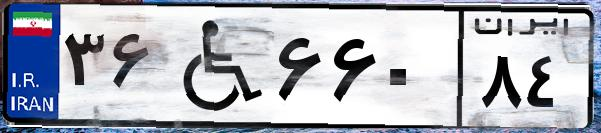0: (385, 28, 445, 110)
3: (57, 26, 110, 100)
4: (525, 38, 570, 115)
6: (270, 28, 330, 110), (330, 28, 385, 110), (110, 28, 158, 98)
8: (475, 38, 525, 113)
ژ (معلولین و جانبازان): (158, 12, 270, 120)
